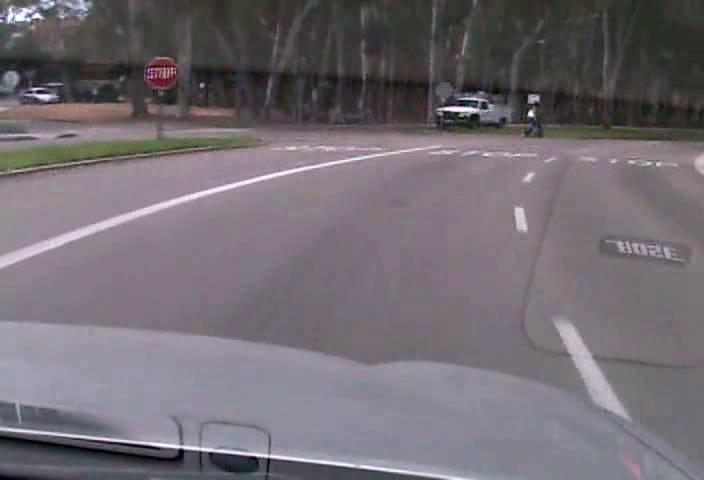stop: (143, 56, 178, 90)
